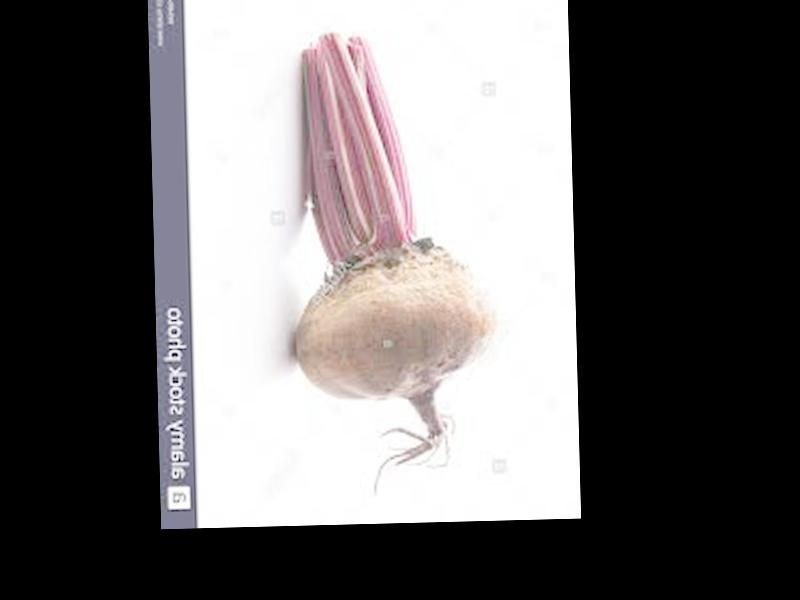Beet: (286, 28, 499, 496)
